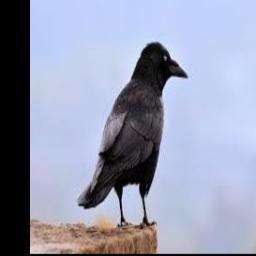Crow: (77, 40, 188, 228)
